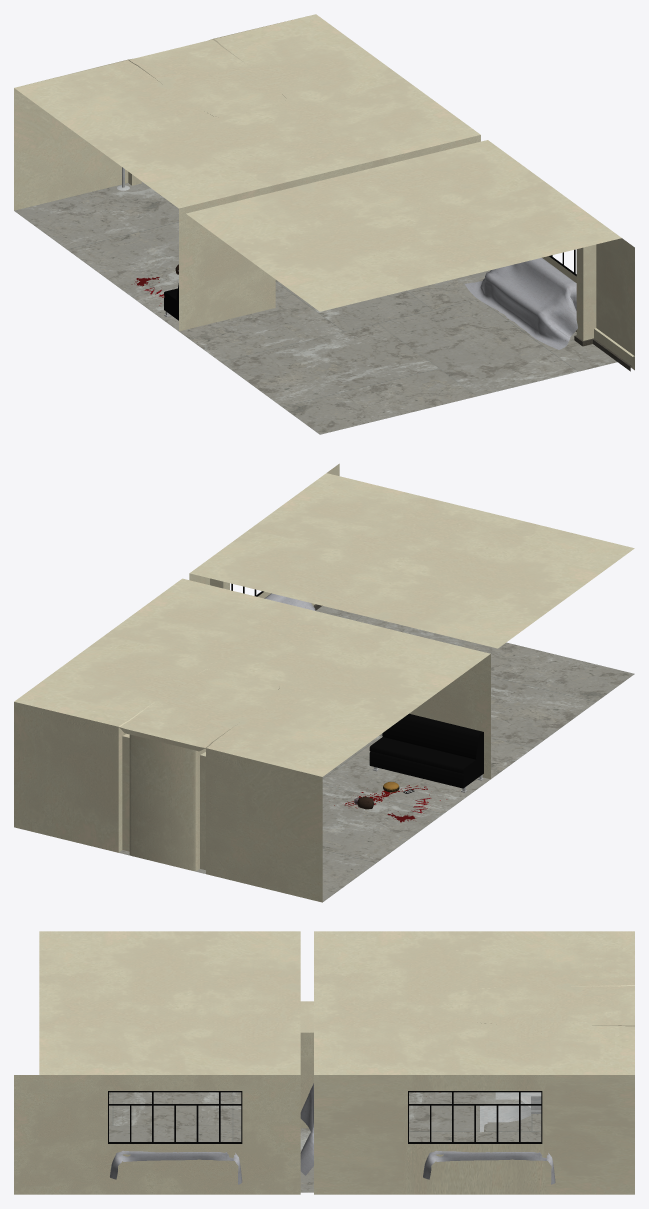
The model's file is Velacion.fbx.
The picture shows the model from 3 angles, top to bottom: view 1: azimuth 30°, elevation 25°; view 2: azimuth 150°, elevation 25°; view 3: azimuth 270°, elevation 25°; orthographic projection. The views are drawn at different scales.
Visible parts, largest first — view 1: Velacion; view 2: Velacion; view 3: Velacion.
Part boxes in pixels (left/top/right/bottom): Velacion: left=14, top=14, right=634, bottom=434; Velacion: left=14, top=463, right=634, bottom=902; Velacion: left=14, top=931, right=634, bottom=1194.
Bounding box in the file's own units: 646 × 249 × 1149.
